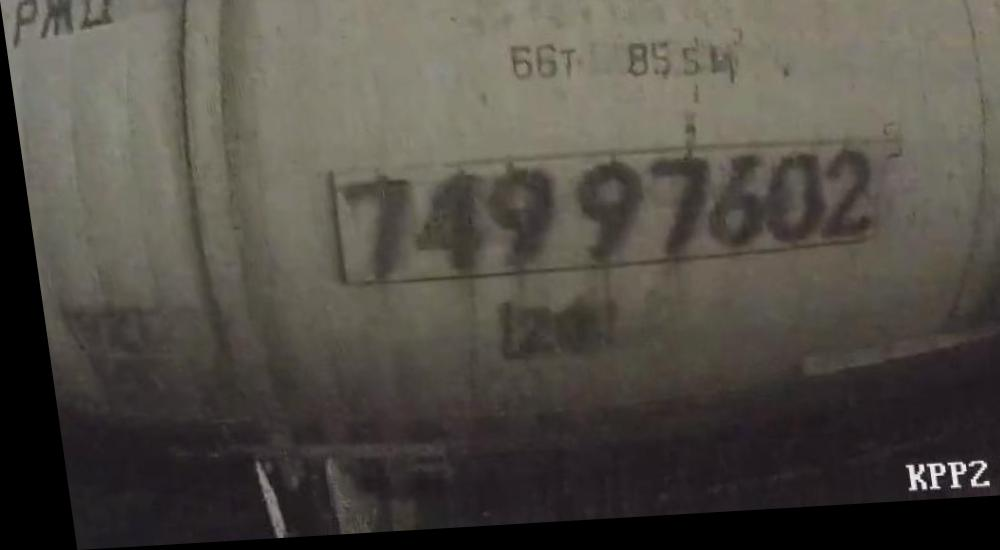Wagon-number: (331, 149, 872, 281)
